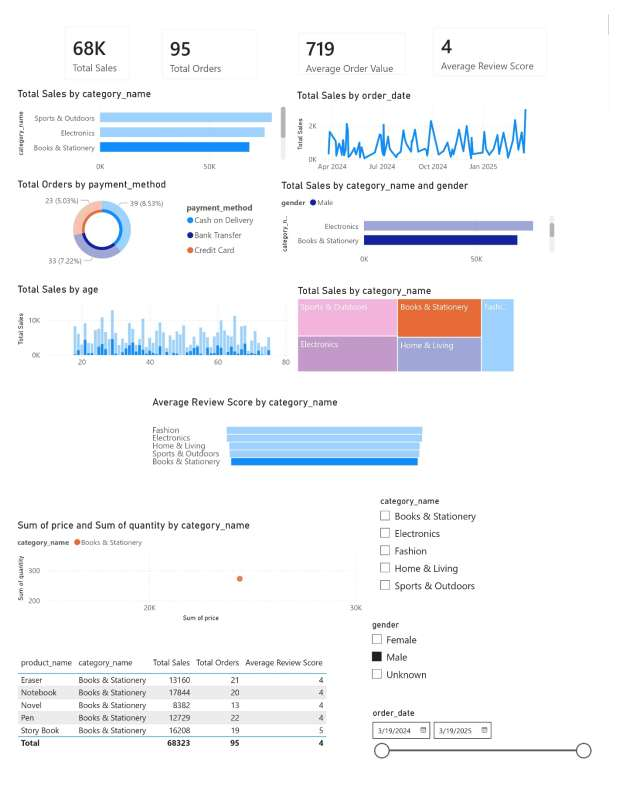

This screenshot's page, from the dashboard's own definition file:
{"tool":"powerbi","page":{"name":"Page 1","canvas":[990,1300],"ordinal":0},"visuals":[{"type":"cardVisual","fields":{"Data":["Measures (4).Total Sales"]},"box":[67.4,2.2,141.5,123.5],"z":0},{"type":"cardVisual","fields":{"Data":["Measures (4).Total Orders"]},"box":[229.1,6.7,193.2,116.8],"z":1},{"type":"cardVisual","fields":{"Data":["Measures (4).Average Order Value"]},"box":[455.9,13.5,213.4,103.3],"z":2},{"type":"cardVisual","fields":{"Data":["Measures (4).Average Review Score"]},"box":[680.5,4.5,224.6,114.5],"z":3},{"type":"clusteredBarChart","fields":{"Category":["synthetic_online_retail_data.category_name"],"Y":["Measures (4).Total Sales"]},"box":[0,121.3,456.9,149.6],"z":4},{"type":"lineChart","fields":{"Category":["synthetic_online_retail_data.order_date.Variation.Date Hierarchy.Year"],"Y":["Measures (4).Total Sales"]},"box":[466.3,124,415.1,146.9],"z":5},{"type":"donutChart","fields":{"Category":["synthetic_online_retail_data.payment_method"],"Y":["Measures (4).Total Orders"]},"box":[0,271.8,417.8,152.7],"z":6},{"type":"barChart","fields":{"Category":["synthetic_online_retail_data.category_name"],"Y":["Measures (4).Total Sales"],"Series":["synthetic_online_retail_data.gender"]},"box":[440.2,274,464.9,150.5],"z":7},{"type":"clusteredColumnChart","fields":{"Category":["synthetic_online_retail_data.age"],"Y":["Measures (4).Total Sales"]},"box":[0,447,464.9,150.5],"z":8},{"type":"treemap","fields":{"Group":["synthetic_online_retail_data.category_name"],"Values":["Measures (4).Total Sales"]},"box":[467.2,449.2,370.6,150.5],"z":9},{"type":"funnel","fields":{"Category":["synthetic_online_retail_data.category_name"],"Y":["Measures (4).Average Review Score"]},"box":[225,635,465,148],"z":11},{"type":"scatterChart","fields":{"X":["Sum(synthetic_online_retail_data.price)"],"Y":["Sum(synthetic_online_retail_data.quantity)"],"Series":["synthetic_online_retail_data.category_name"]},"box":[0,840,584,176],"z":12},{"type":"tableEx","fields":{"Values":["synthetic_online_retail_data.product_name","synthetic_online_retail_data.category_name","Measures (4).Total Sales","Measures (4).Total Orders","Measures (4).Average Review Score"]},"box":[0,1064,542,178],"z":13},{"type":"slicer","fields":{"Values":["synthetic_online_retail_data.gender"]},"box":[583.3,1003.3,363.3,120],"z":14},{"type":"slicer","fields":{"Values":["synthetic_online_retail_data.category_name"]},"box":[596.7,796.7,360,176.7],"z":15},{"type":"slicer","fields":{"Values":["synthetic_online_retail_data.order_date"]},"box":[584,1150,386,150],"z":16}]}

Visuals, with their boxes in screenshot pixels (x1, y1, x2, y2), scaled from the page's 990x1300 canvas onto the 623x810 screenshot:
cardVisual - Measures (4).Total Sales: 42/1/131/78
cardVisual - Measures (4).Total Orders: 144/4/266/77
cardVisual - Measures (4).Average Order Value: 287/8/421/73
cardVisual - Measures (4).Average Review Score: 428/3/570/74
clusteredBarChart - synthetic_online_retail_data.category_name x Measures (4).Total Sales: 0/76/288/169
lineChart - synthetic_online_retail_data.order_date.Variation.Date Hierarchy.Year x Measures (4).Total Sales: 293/77/555/169
donutChart - synthetic_online_retail_data.payment_method x Measures (4).Total Orders: 0/169/263/264
barChart - synthetic_online_retail_data.category_name x Measures (4).Total Sales: 277/171/570/264
clusteredColumnChart - synthetic_online_retail_data.age x Measures (4).Total Sales: 0/279/293/372
treemap - synthetic_online_retail_data.category_name x Measures (4).Total Sales: 294/280/527/374
funnel - synthetic_online_retail_data.category_name x Measures (4).Average Review Score: 142/396/434/488
scatterChart - Sum(synthetic_online_retail_data.price) x Sum(synthetic_online_retail_data.quantity): 0/523/368/633
tableEx - synthetic_online_retail_data.product_name x synthetic_online_retail_data.category_name: 0/663/341/774
slicer - synthetic_online_retail_data.gender: 367/625/596/700
slicer - synthetic_online_retail_data.category_name: 375/496/602/607
slicer - synthetic_online_retail_data.order_date: 368/717/610/809
